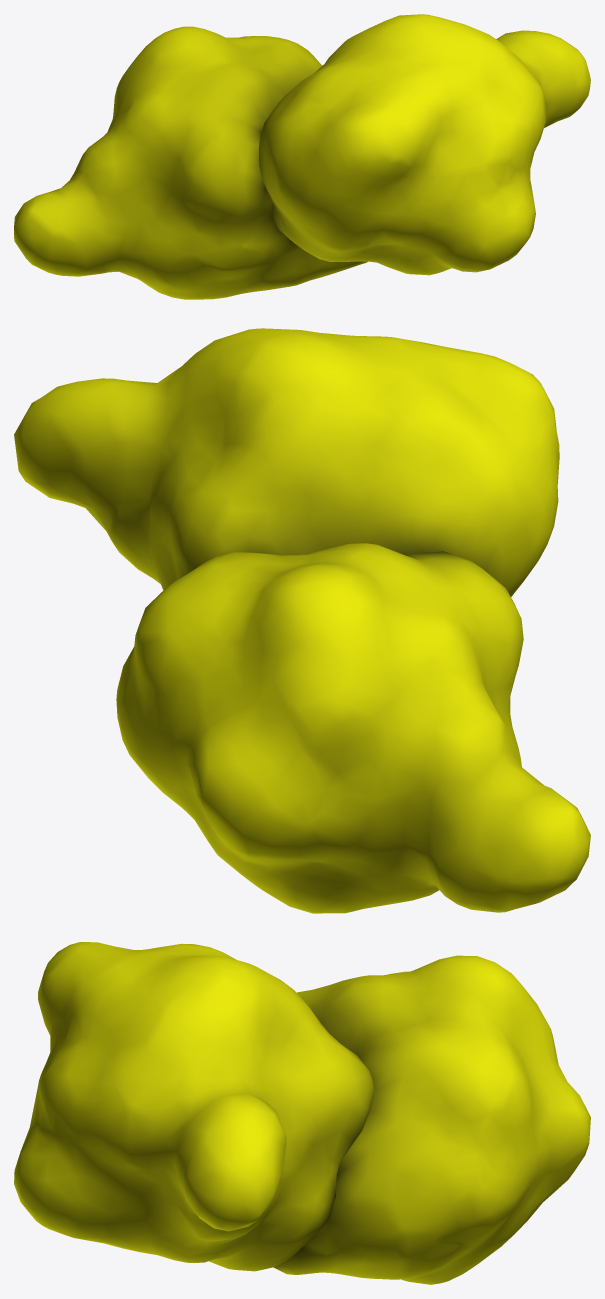
Rendered from PHO2.fbx.
3 renders of one model, top to bottom at view 1: azimuth 30°, elevation 25°; view 2: azimuth 150°, elevation 25°; view 3: azimuth 270°, elevation 25°, orthographic. The views are drawn at different scales.
Visible parts, largest first — view 1: chain_B_surface, chain_A_surface; view 2: chain_A_surface, chain_B_surface; view 3: chain_B_surface, chain_A_surface.
Boxes of the visible parts, bbox=[...] form: chain_B_surface: bbox=[259, 14, 590, 275]; chain_A_surface: bbox=[14, 26, 367, 299]; chain_A_surface: bbox=[116, 543, 590, 913]; chain_B_surface: bbox=[14, 328, 559, 596]; chain_B_surface: bbox=[14, 942, 373, 1271]; chain_A_surface: bbox=[273, 955, 590, 1284].
Bounding box in the file's own units: 112 × 68.2 × 94.07.
